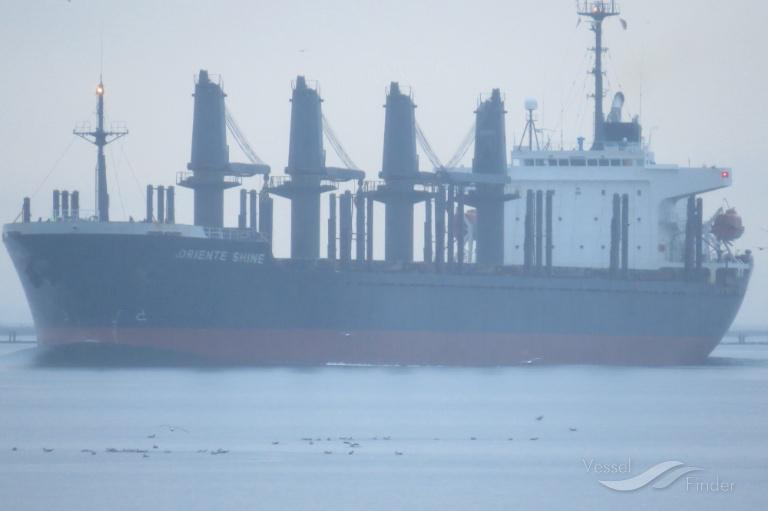OCR: (174, 242, 269, 272)
